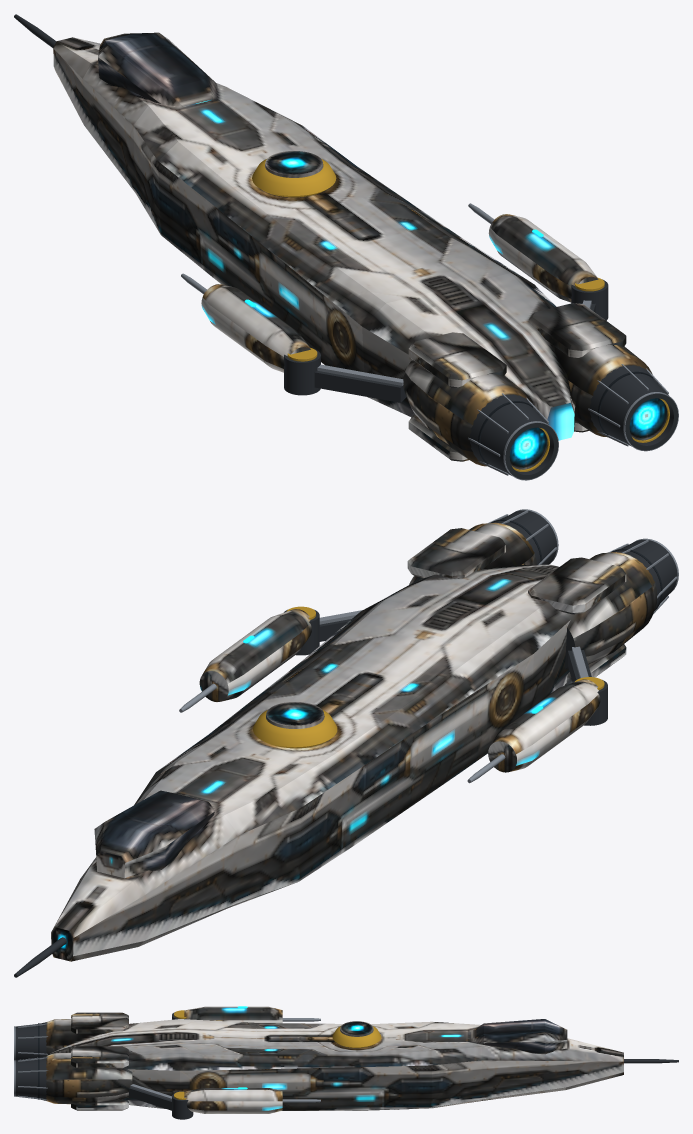
The model's file is scout.glb.
3 renders of one model, top to bottom at view 1: azimuth 30°, elevation 25°; view 2: azimuth 150°, elevation 25°; view 3: azimuth 270°, elevation 25°, orthographic. The views are drawn at different scales.
Visible parts, largest first — view 1: Reference artwork | titanium, brass, panels and canopy, Structural frames | gunmetal, Warm brass collars, Machined titanium edges, Ventral armor | dedicated bottom-view reference; view 2: Reference artwork | titanium, brass, panels and canopy, Structural frames | gunmetal, Machined titanium edges, Warm brass collars, Ventral armor | dedicated bottom-view reference; view 3: Reference artwork | titanium, brass, panels and canopy, Structural frames | gunmetal, Ventral armor | dedicated bottom-view reference, Machined titanium edges, Warm brass collars.
Boxes of the visible parts, x1,y1,x2,y2 form: Reference artwork | titanium, brass, panels and canopy: (53,32,667,469); Structural frames | gunmetal: (14,14,678,479); Warm brass collars: (252,159,669,471); Machined titanium edges: (181,203,678,480); Ventral armor | dedicated bottom-view reference: (54,68,607,466); Reference artwork | titanium, brass, panels and canopy: (51,522,657,961); Structural frames | gunmetal: (14,510,677,977); Machined titanium edges: (179,509,678,783); Warm brass collars: (253,606,604,748); Ventral armor | dedicated bottom-view reference: (71,554,651,961); Reference artwork | titanium, brass, panels and canopy: (46,1006,623,1110); Structural frames | gunmetal: (15,1012,678,1119); Ventral armor | dedicated bottom-view reference: (46,1033,623,1113); Machined titanium edges: (14,1018,320,1102); Warm brass collars: (174,1010,381,1099).
Bounding box in the file's own units: 6.53 × 2.32 × 19.92.
7 materials, 2 textured.
